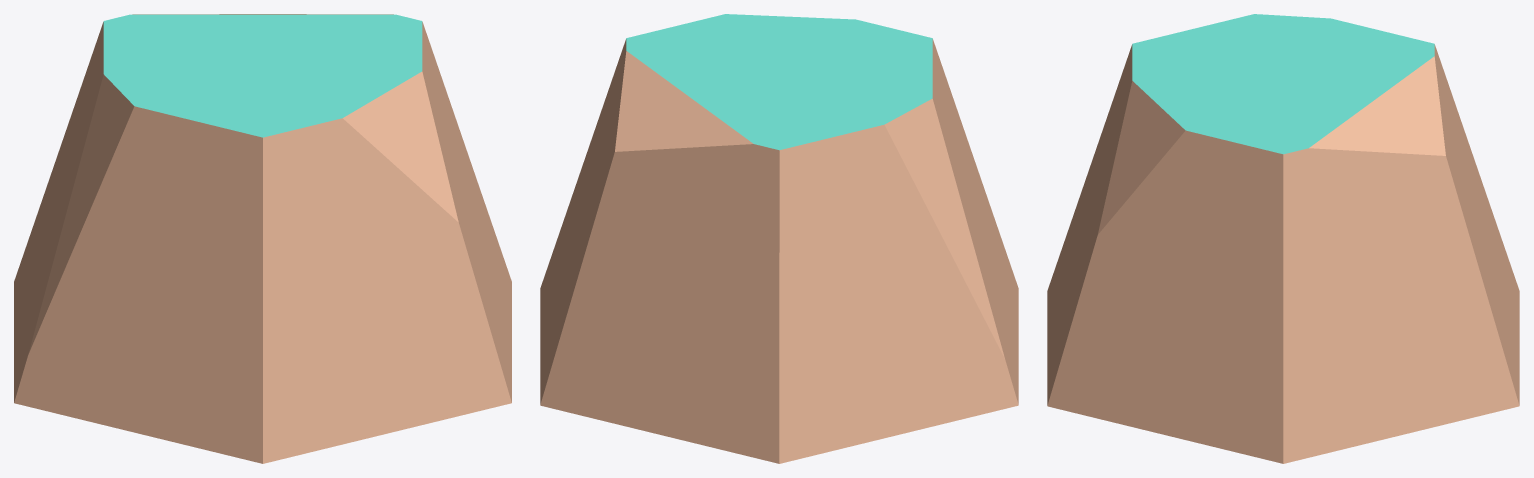
Rendered from rock-small-d.glb.
3 views of the same model, side by side, from view 1: azimuth 30°, elevation 25°; view 2: azimuth 150°, elevation 25°; view 3: azimuth 270°, elevation 25° (orthographic). The views are drawn at different scales.
Parts seen in each view (by area): view 1: rock_smallD; view 2: rock_smallD; view 3: rock_smallD.
Part boxes in pixels (left/top/right/bottom): rock_smallD: left=14, top=14, right=511, bottom=463; rock_smallD: left=540, top=14, right=1018, bottom=463; rock_smallD: left=1047, top=14, right=1519, bottom=463.
Size of the model in its own units: 0.4257 by 0.2309 by 0.3687.
